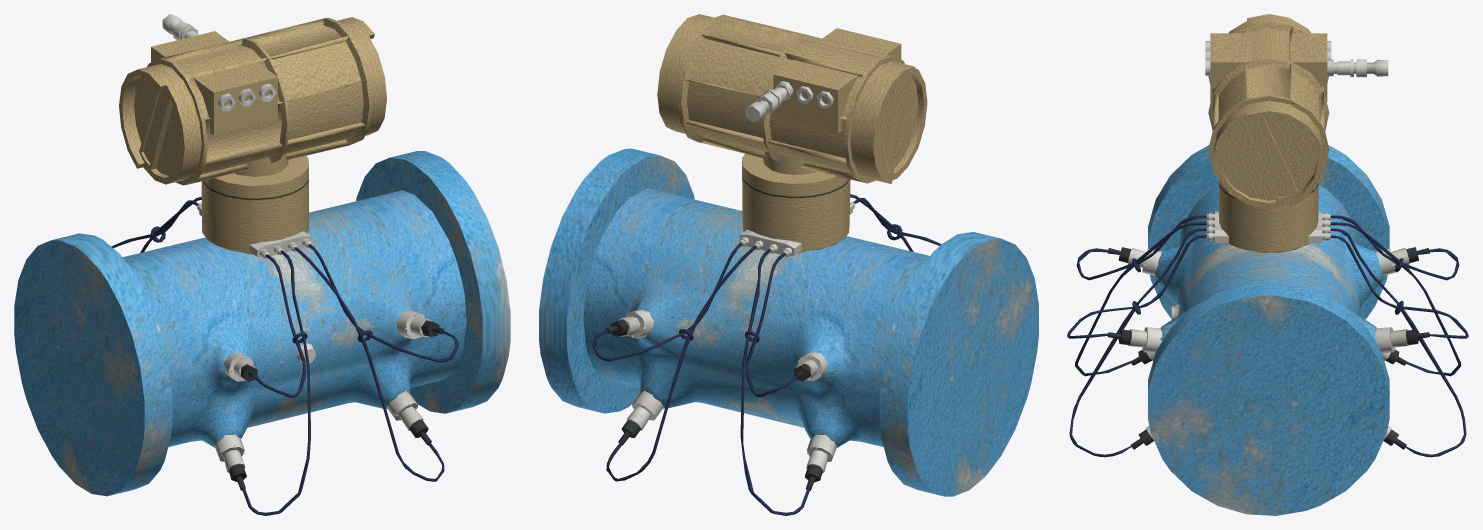
File: equipment.obj
3 renders of one model, left to right at view 1: azimuth 30°, elevation 25°; view 2: azimuth 150°, elevation 25°; view 3: azimuth 270°, elevation 25°, orthographic. The views are drawn at different scales.
Size of the model in its own units: 280 by 293 by 287.
